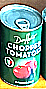tomatoes: (1, 4, 44, 87)
